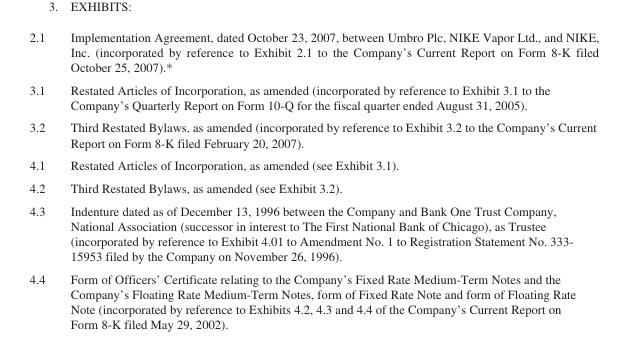table: (28, 29, 598, 331)
table column: (57, 29, 598, 331), (28, 29, 57, 331)
table row: (28, 199, 598, 267), (28, 267, 598, 331), (28, 29, 598, 77), (28, 77, 598, 115), (28, 115, 598, 153), (28, 153, 598, 176), (28, 176, 598, 199)
